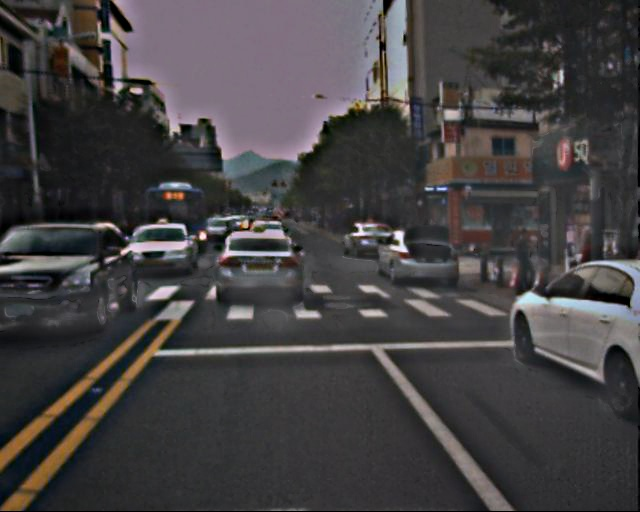person: (512, 227, 536, 292)
